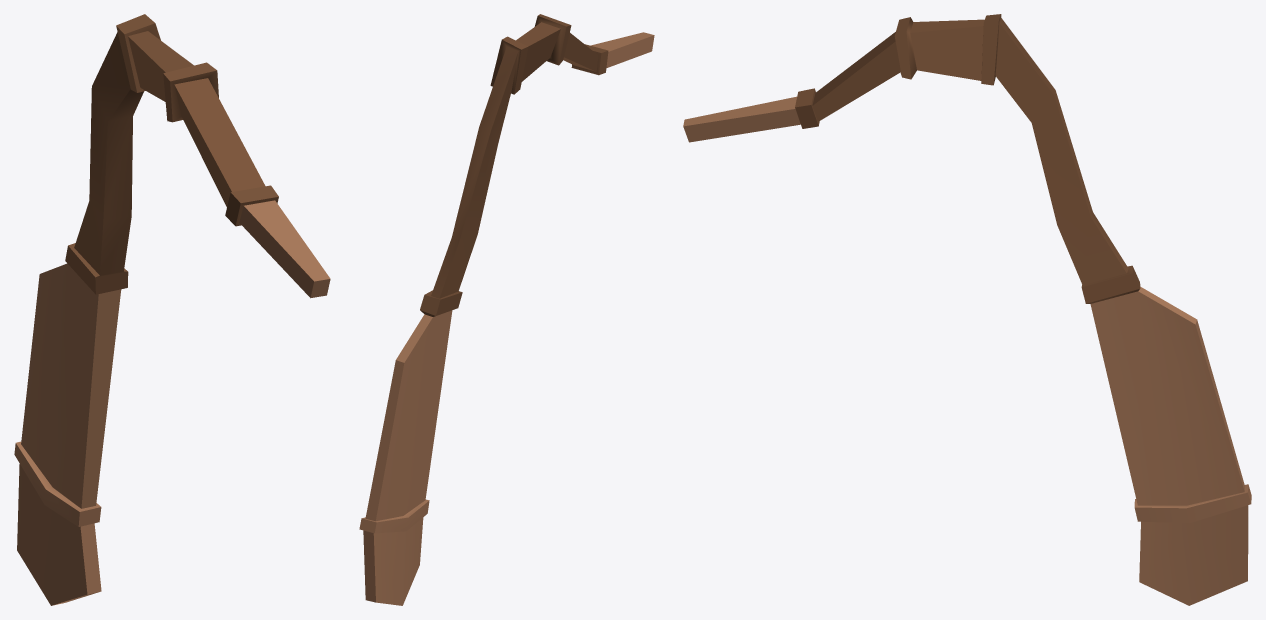
The model's file is pedel pond lvl 1.fbx.
3 views of the same model, side by side, from view 1: azimuth 30°, elevation 25°; view 2: azimuth 150°, elevation 25°; view 3: azimuth 270°, elevation 25° (orthographic). The views are drawn at different scales.
Parts seen in each view (by area): view 1: peddel_pond_lvl_1; view 2: peddel_pond_lvl_1; view 3: peddel_pond_lvl_1.
Boxes of the visible parts, x1=… form: peddel_pond_lvl_1: x1=14, y1=14, x2=330, y2=605; peddel_pond_lvl_1: x1=359, y1=14, x2=654, y2=605; peddel_pond_lvl_1: x1=683, y1=14, x2=1251, y2=605.
Bounding box in the file's own units: 0.4879 × 4.2 × 3.78.
